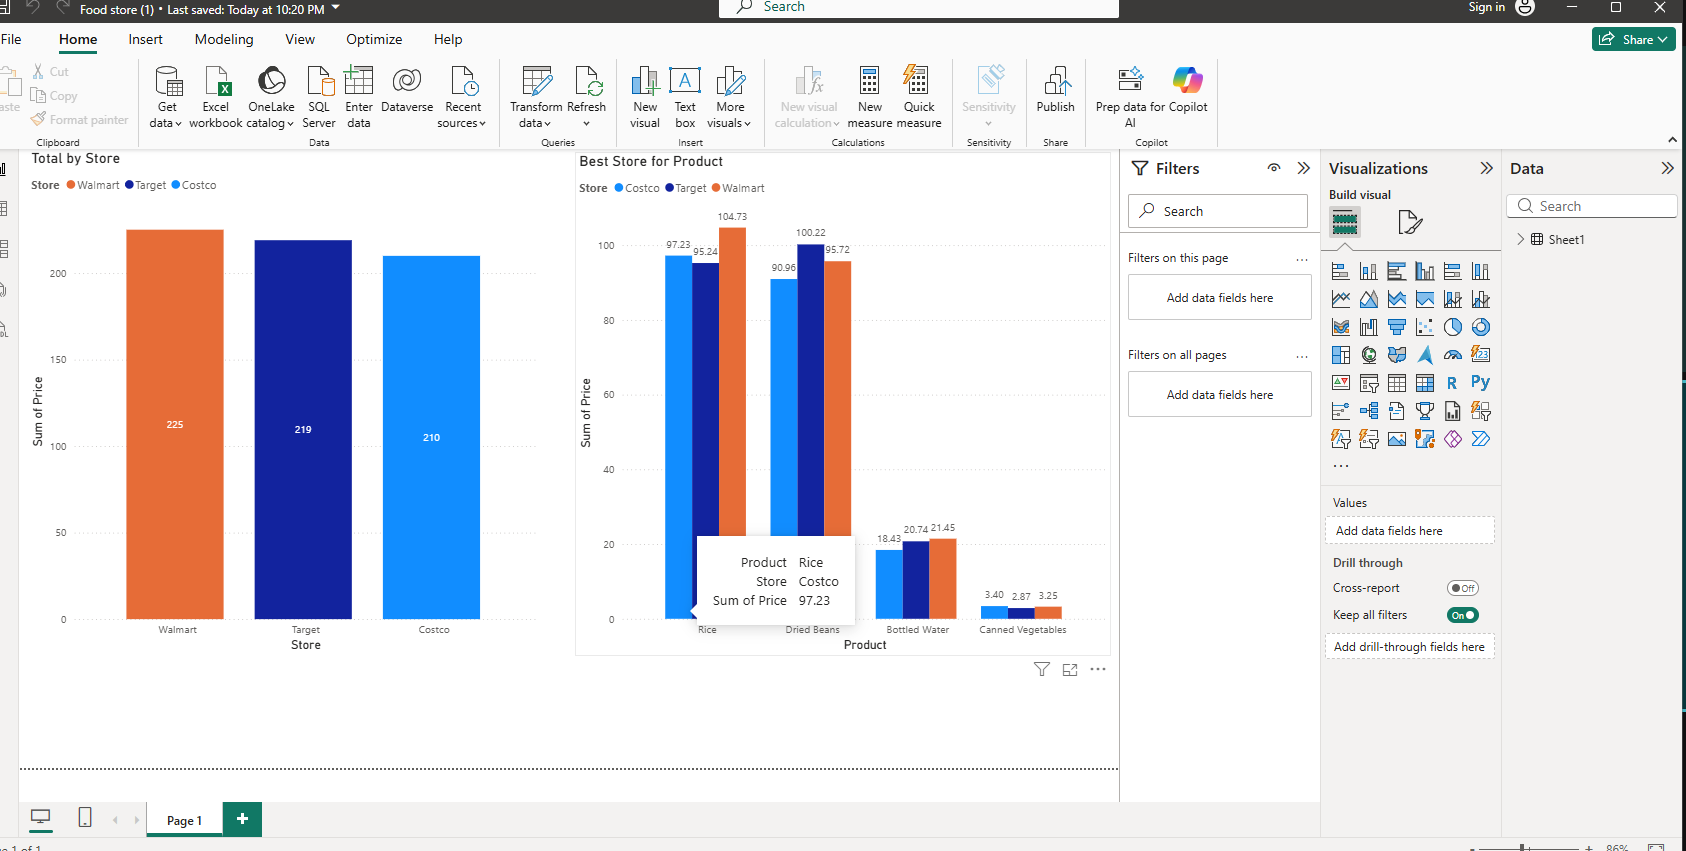

What the dashboard file says about the page in this screenshot:
{"tool":"powerbi","page":{"name":"Page 1","canvas":[1280,720],"ordinal":0},"visuals":[{"type":"columnChart","title":"Total by Store ","fields":{"Category":["Sheet1.Store"],"Y":["Sum(Sheet1.Price)"],"Series":["Sheet1.Store"]},"box":[9.7,0,598.2,590.4],"z":0},{"type":"clusteredColumnChart","title":"Best Store for Product","fields":{"Category":["Sheet1.Product"],"Y":["Sum(Sheet1.Price)"],"Series":["Sheet1.Store"]},"box":[646.8,3.9,624.4,586.5],"z":1000}]}

Visuals, with their boxes on the page's 1280x720 design canvas (x1, y1, x2, y2). These are canvas units, not pixel positions in the 1686x851 screenshot, which may show the page scaled, cropped or inside an application window:
"Total by Store " columnChart: <box>10,0,608,590</box>
"Best Store for Product" clusteredColumnChart: <box>647,4,1271,590</box>
